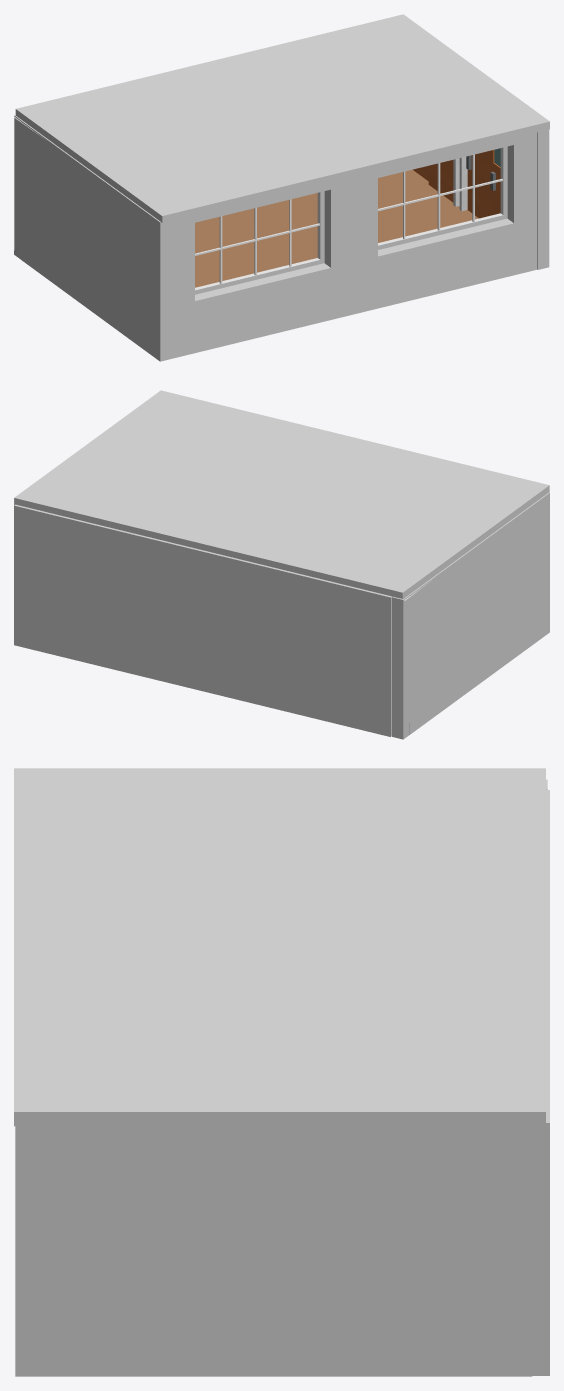
Rendered from corridors_glb.glb.
The picture shows the model from 3 angles, top to bottom: view 1: azimuth 30°, elevation 25°; view 2: azimuth 150°, elevation 25°; view 3: azimuth 270°, elevation 25°; orthographic projection. The views are drawn at different scales.
Parts seen in each view (by area): view 1: wallsfloor, ceiling, column.004, ClassRoomDoor_10.006, column.001, ClassRoomDoor_8.005, ClassRoomDoor_8.006, DoorClassroom_1.005; view 2: ceiling, column.003, wallsfloor, column.001, column.005; view 3: ceiling, column.002, column.004, column.005, column.003.
Part boxes in pixels (x1,y1,x2,y2): wallsfloor: (20, 120, 537, 361); ceiling: (14, 14, 549, 223); column.004: (537, 129, 549, 269); ClassRoomDoor_10.006: (466, 150, 491, 218); column.001: (14, 115, 21, 258); ClassRoomDoor_8.005: (428, 160, 453, 202); ClassRoomDoor_8.006: (490, 148, 500, 215); DoorClassroom_1.005: (459, 156, 467, 211); ceiling: (14, 390, 549, 600); column.003: (25, 507, 391, 736); wallsfloor: (409, 492, 549, 734); column.001: (392, 595, 409, 739); column.005: (14, 504, 26, 647); ceiling: (14, 768, 545, 1126); column.002: (39, 1126, 532, 1376); column.004: (15, 1126, 38, 1376); column.005: (532, 1113, 549, 1375); column.003: (546, 790, 549, 1112).
Size of the model in its own units: 10.36 by 3.8 by 6.8.
Materials: 13 (13 with a texture image).
